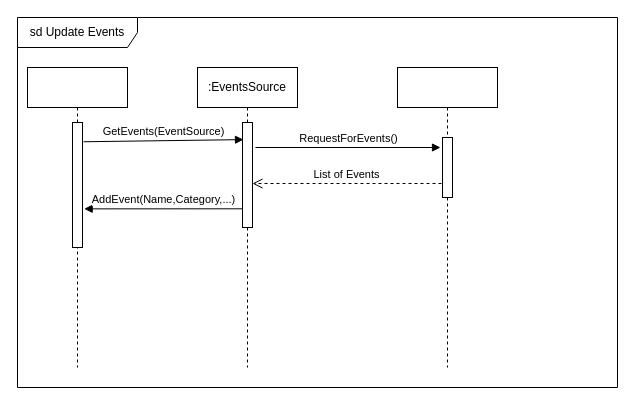
This 635x405 diagram has some shape labels left out. The box of each missing label's shape, as (x1, y1, x2, y2) in pixels:
:Events: (26, 66, 128, 368)
<<Actor>> The Website: (396, 66, 498, 368)
